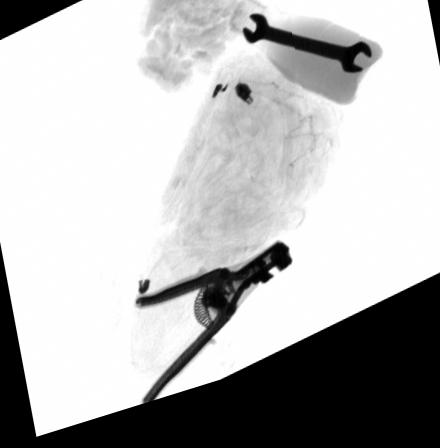Pliers: (132, 252, 295, 412)
Wrench: (242, 29, 372, 92)
